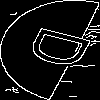D: (25, 25, 100, 74)
